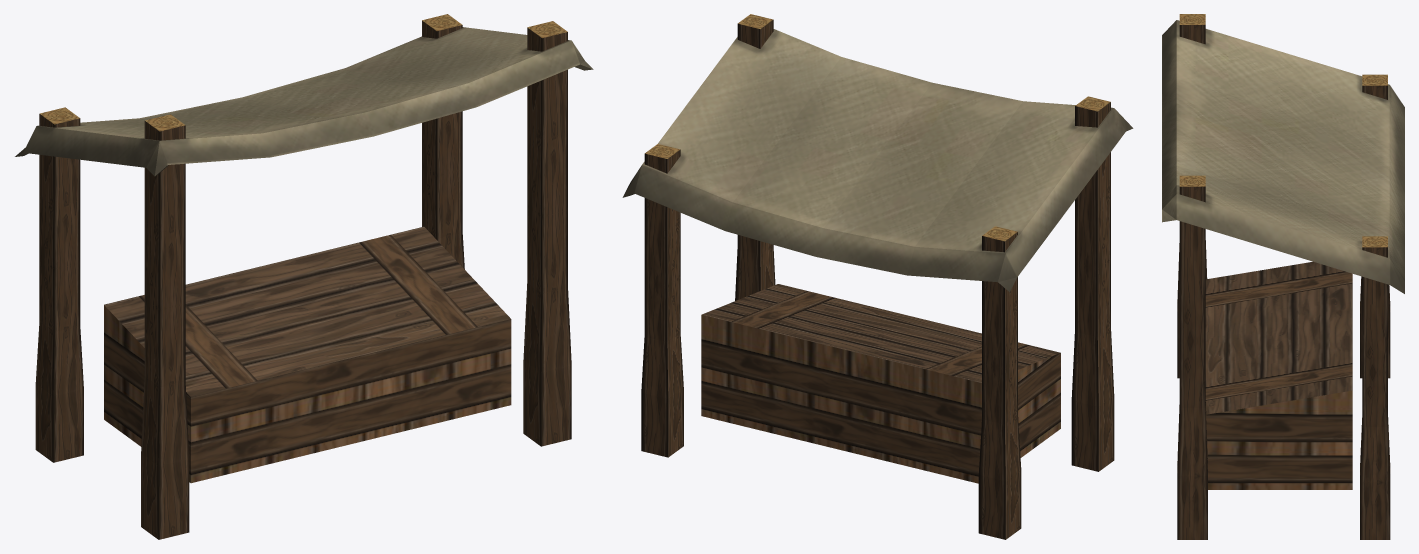
File: Tent.FBX
3 views of the same model, side by side, from view 1: azimuth 30°, elevation 25°; view 2: azimuth 150°, elevation 25°; view 3: azimuth 270°, elevation 25° (orthographic). The views are drawn at different scales.
Parts seen in each view (by area): view 1: Tent; view 2: Tent; view 3: Tent.
Boxes of the visible parts, x1,y1,x2,y2 form: Tent: (15,14,593,539); Tent: (622,14,1133,539); Tent: (1162,14,1404,539).
Bounding box in the file's own units: 126 × 69.73 × 112.
